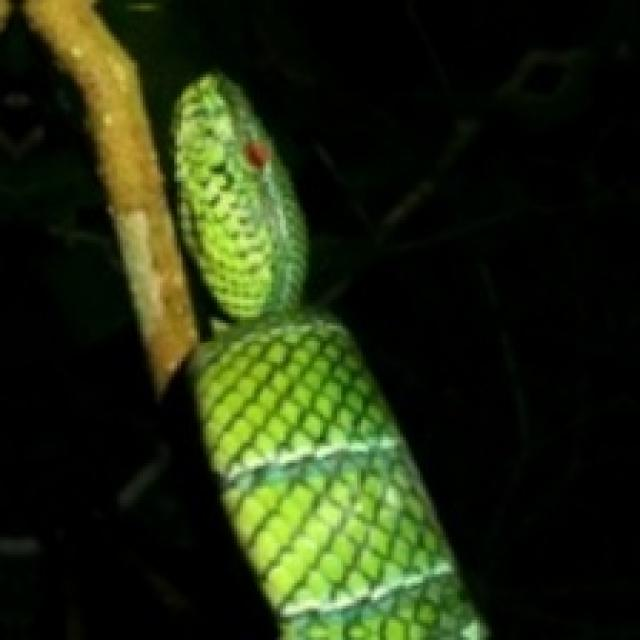north ph temple pitviper: (174, 74, 486, 637)
